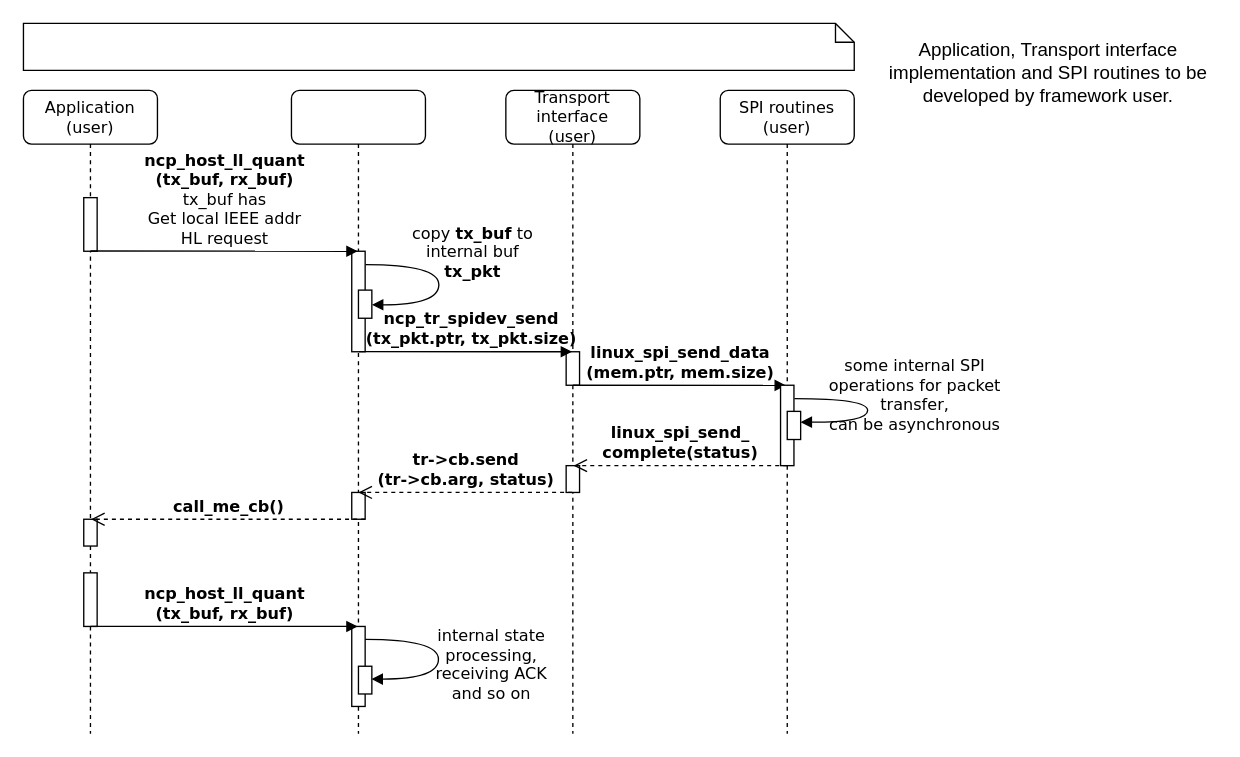
This 1240x757 diagram has some shape labels left out. The box of each missing label's shape, as (x1, y1, x2, y2) in pixels:
HOST: (22, 22, 854, 70)
Low Level framework (DSR): (290, 89, 425, 734)
